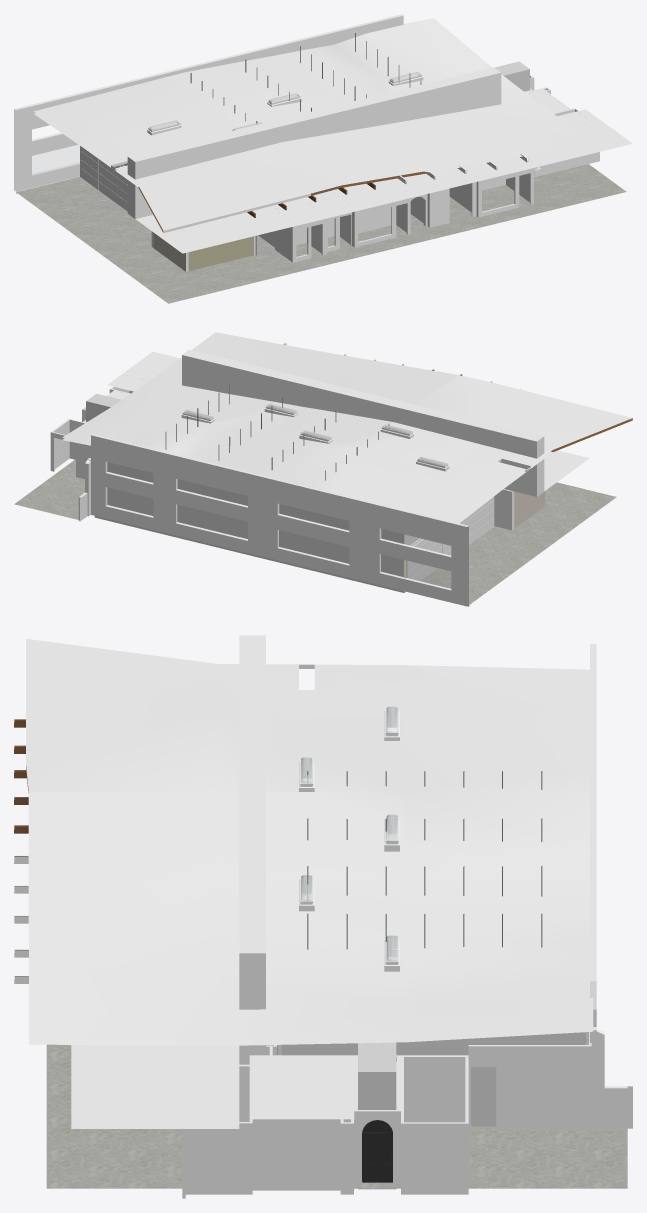
The model's file is large_hub_01.glb.
3 renders of one model, top to bottom at view 1: azimuth 30°, elevation 25°; view 2: azimuth 150°, elevation 25°; view 3: azimuth 270°, elevation 25°, orthographic. The views are drawn at different scales.
Visible parts, largest first — view 1: ceiling, main_floor, Mesh1294 Group8 Model, main_wall, ceiling.001, windows_wall, available_moving_area.001, the_grid, ceiling.002, great_wall.008, great_wall.006, great_wall.004; view 2: ceiling, windows_wall, Mesh1294 Group8 Model, main_floor, available_moving_area, ceiling.001, main_wall, wall, the_grid, available_moving_area.001, great_wall.006, great_wall.008 (+1 smaller); view 3: ceiling, main_floor, main_wall, windows_wall, ceiling.001, wall, Mesh1294 Group8 Model, ceiling.002, available_moving_area, available_moving_area.001, discover_entrance.001, the_grid.
Boxes of the visible parts, x1,y1,x2,y2 form: ceiling: (34,18,591,233); main_floor: (16,164,626,303); Mesh1294 Group8 Model: (127,67,501,218); main_wall: (151,87,599,271); ceiling.001: (135,109,632,253); windows_wall: (14,14,403,191); available_moving_area.001: (494,61,529,91); the_grid: (190,33,421,124); ceiling.002: (526,89,568,113); great_wall.008: (81,168,127,211); great_wall.006: (81,160,127,202); great_wall.004: (81,151,127,193); ceiling: (62,332,632,523); windows_wall: (78,434,468,606); Mesh1294 Group8 Model: (182,349,544,496); main_floor: (14,460,616,606); available_moving_area: (94,462,419,592); ceiling.001: (107,351,589,490); main_wall: (82,374,545,530); wall: (50,418,90,479); the_grid: (165,385,389,480); available_moving_area.001: (86,393,121,421); great_wall.006: (408,509,494,578); great_wall.008: (411,518,494,580); ceiling: (26,638,593,1045); main_floor: (46,1032,627,1188); main_wall: (85,1045,357,1198); windows_wall: (468,644,632,1130); ceiling.001: (71,1045,239,1128); wall: (354,1055,468,1194); Mesh1294 Group8 Model: (239,635,265,1055); ceiling.002: (252,1056,350,1117); available_moving_area: (281,778,585,1126); available_moving_area.001: (358,1042,396,1189); discover_entrance.001: (362,1133,392,1182); the_grid: (307,771,542,949).
Bounding box in the file's own units: 1533 × 310 × 957.
Materials: 73 (17 with a texture image).
